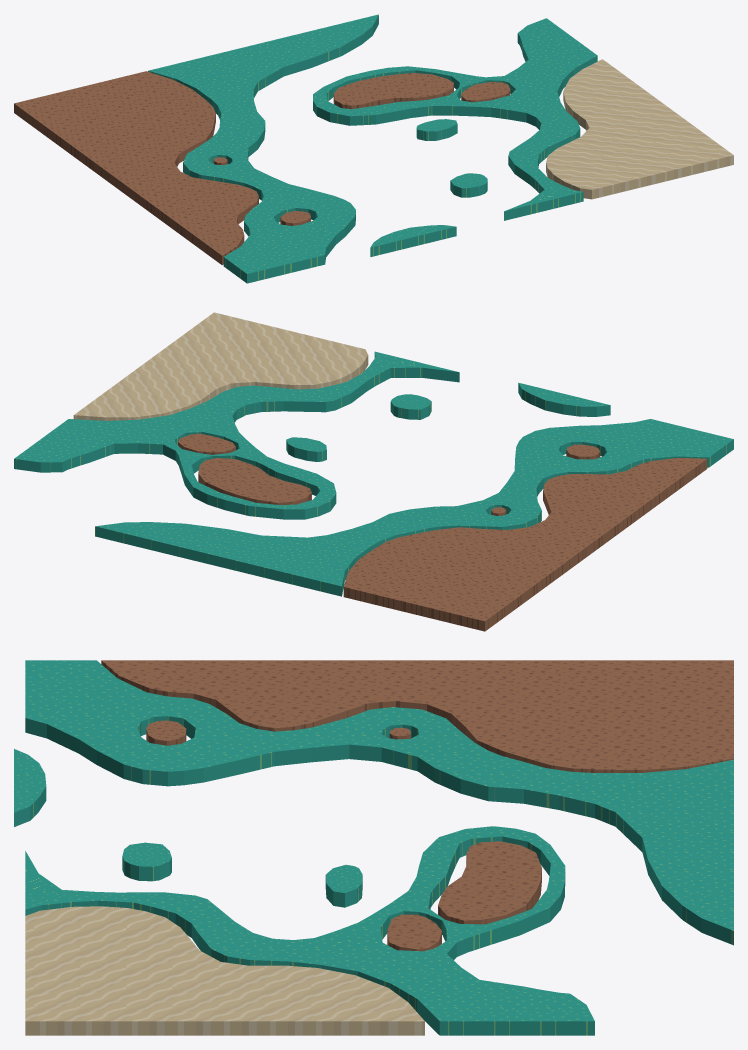
The model's file is GroundColision.fbx.
3 renders of one model, top to bottom at view 1: azimuth 30°, elevation 25°; view 2: azimuth 150°, elevation 25°; view 3: azimuth 270°, elevation 25°, orthographic. The views are drawn at different scales.
Visible parts, largest first — view 1: darkgrasscollision, mudcollision, sandcollision; view 2: darkgrasscollision, mudcollision, sandcollision; view 3: darkgrasscollision, mudcollision, sandcollision.
Part boxes in pixels (x1,y1,x2,y2): darkgrasscollision: (148, 14, 597, 283); mudcollision: (14, 71, 510, 265); sandcollision: (546, 59, 733, 199); darkgrasscollision: (14, 351, 733, 596); mudcollision: (178, 433, 707, 631); sandcollision: (73, 312, 368, 420); darkgrasscollision: (14, 660, 733, 1035); mudcollision: (101, 660, 733, 951); sandcollision: (25, 906, 424, 1035).
Bounding box in the file's own units: 4500 × 84.38 × 3793.
Materials: 3 (3 with a texture image).
